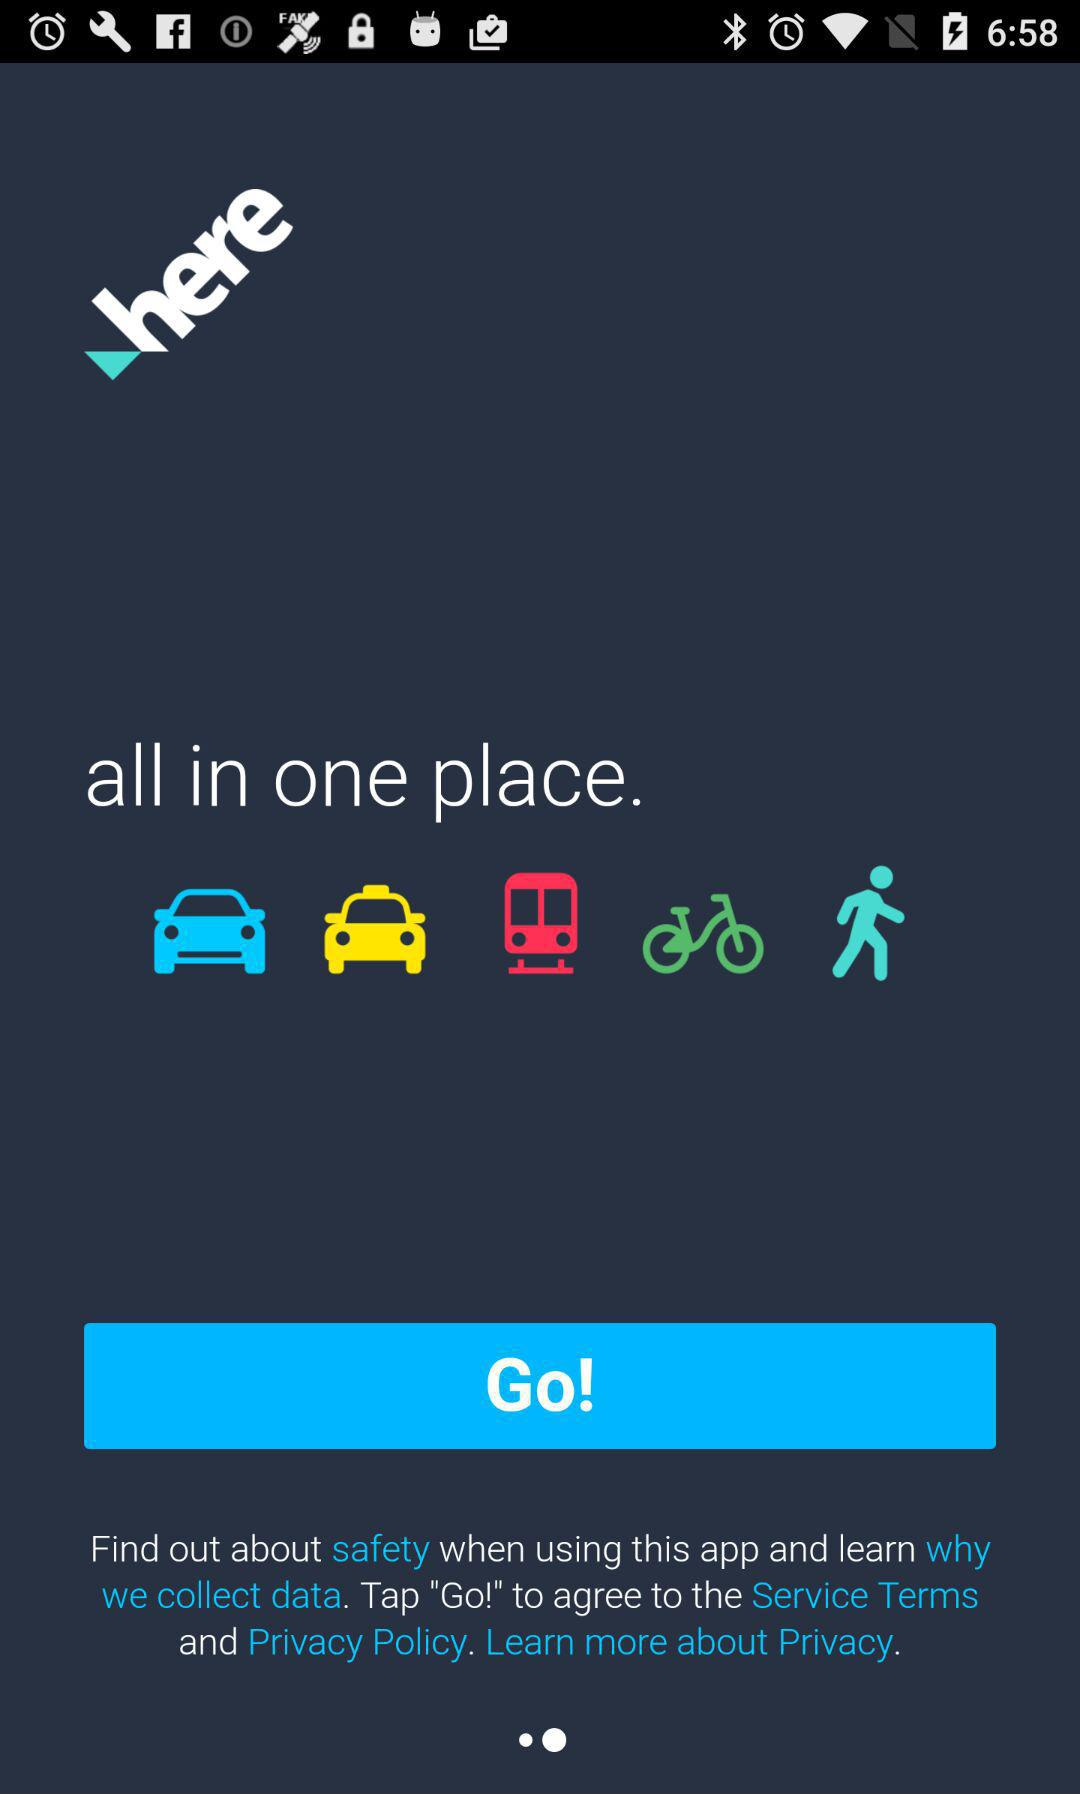Image: (83, 188, 293, 384), (641, 892, 766, 976), (152, 887, 268, 976), (323, 883, 428, 976), (831, 864, 907, 983), (503, 871, 580, 976)
PageIndicator: (516, 1725, 570, 1756)
Text: (94, 1533, 992, 1665), (86, 739, 643, 824)
TextButton: (85, 1322, 997, 1451)
UpperTaskBar: (1, 1, 1080, 64)
